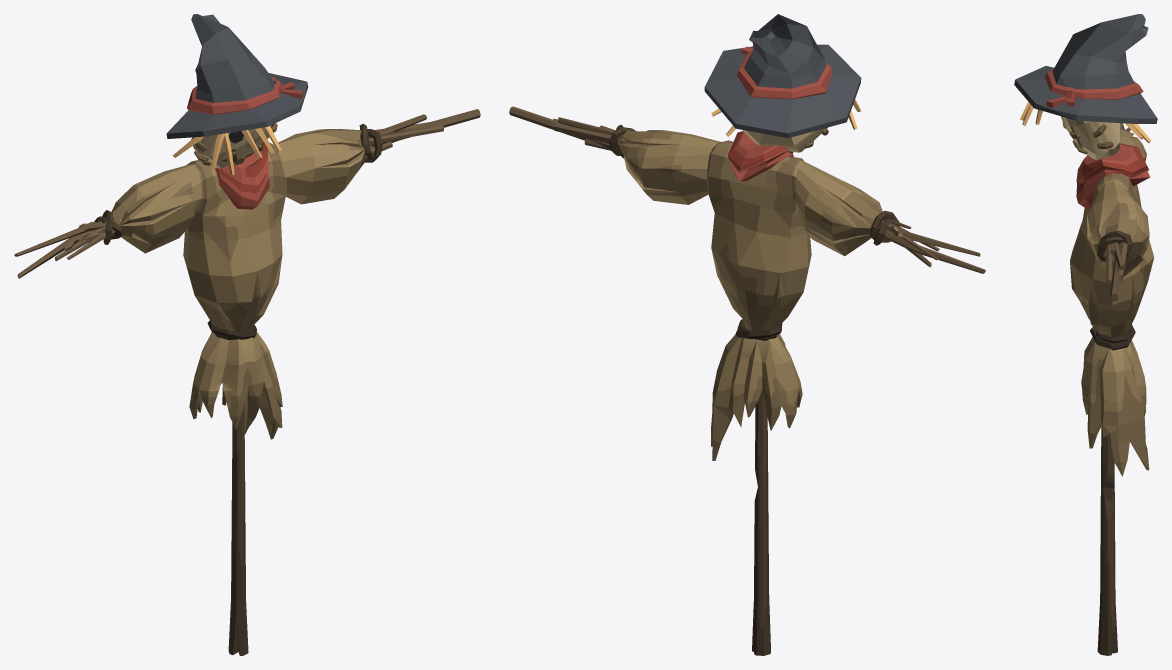
The model's file is SM_Prop_ScareCrow_01.fbx.
The picture shows the model from 3 angles, left to right: view 1: azimuth 30°, elevation 25°; view 2: azimuth 150°, elevation 25°; view 3: azimuth 270°, elevation 25°; orthographic projection. The views are drawn at different scales.
Parts seen in each view (by area): view 1: SM_Prop_ScareCrow_01; view 2: SM_Prop_ScareCrow_01; view 3: SM_Prop_ScareCrow_01.
Part boxes in pixels (x1,y1,x2,y2): SM_Prop_ScareCrow_01: (14,14,480,655); SM_Prop_ScareCrow_01: (509,14,985,655); SM_Prop_ScareCrow_01: (1014,14,1157,655).
Bounding box in the file's own units: 295 × 384 × 79.74.
Materials: 1 (1 with a texture image).
